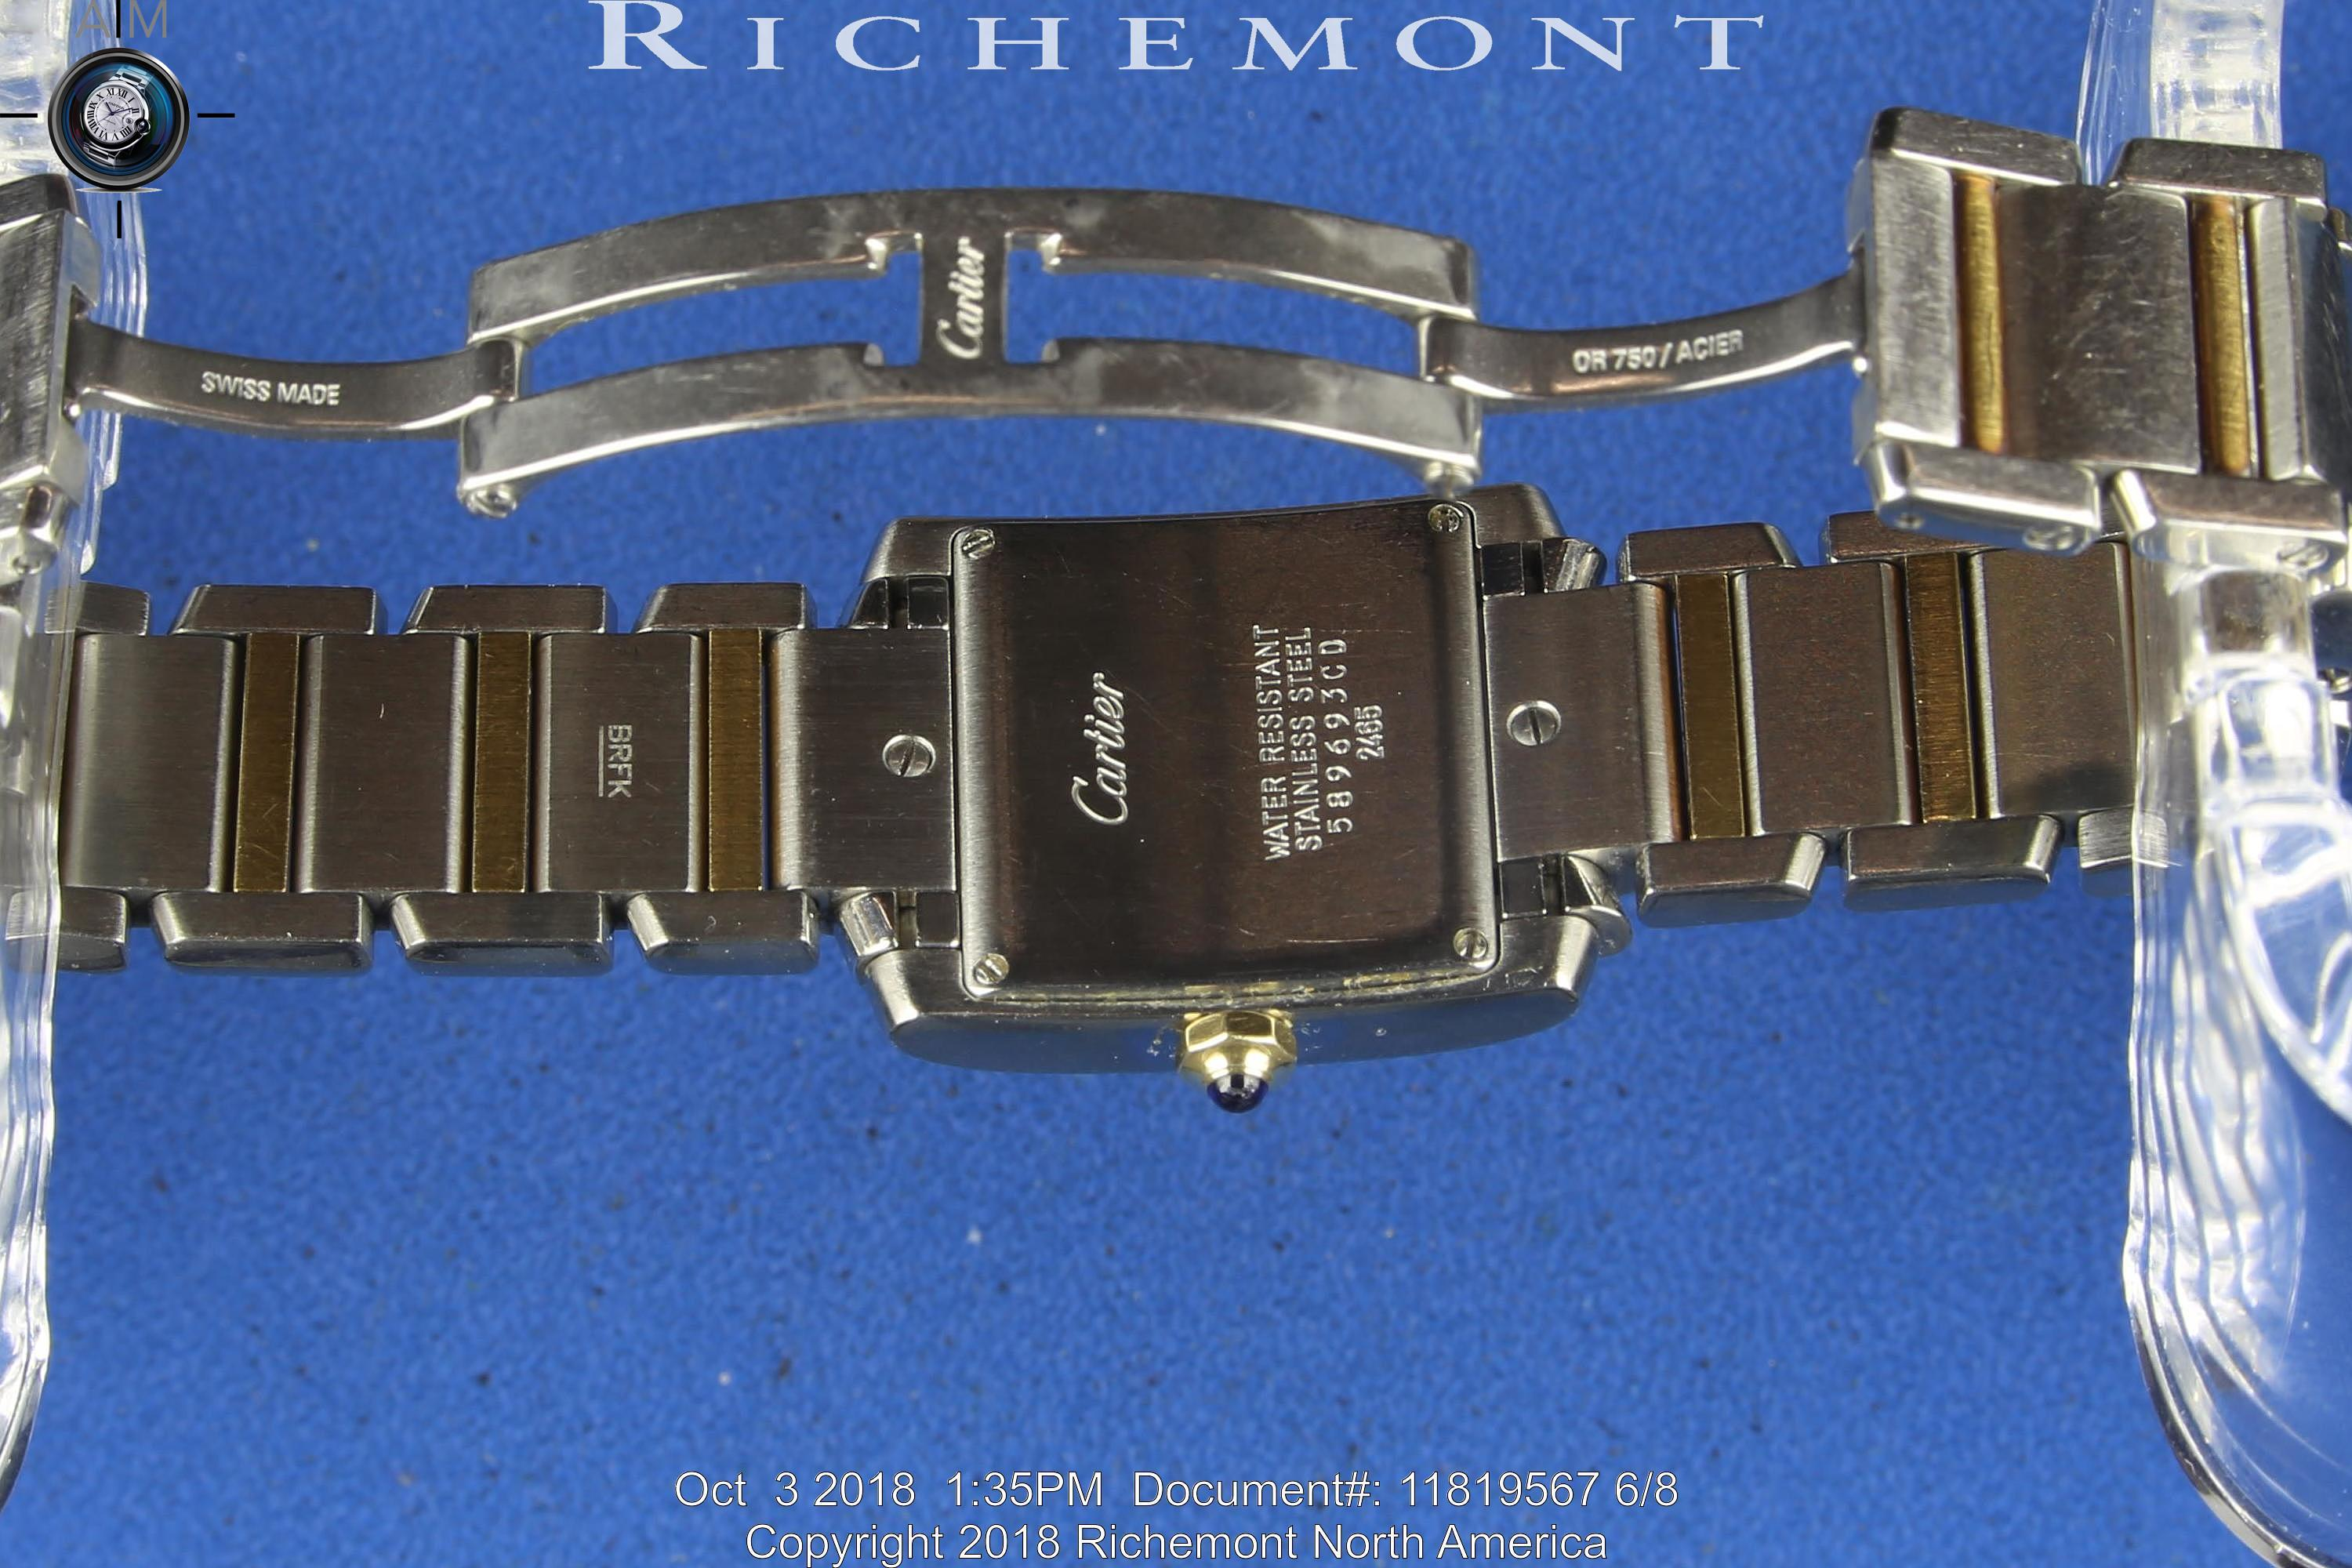watchback: (856, 483, 1605, 1048)
